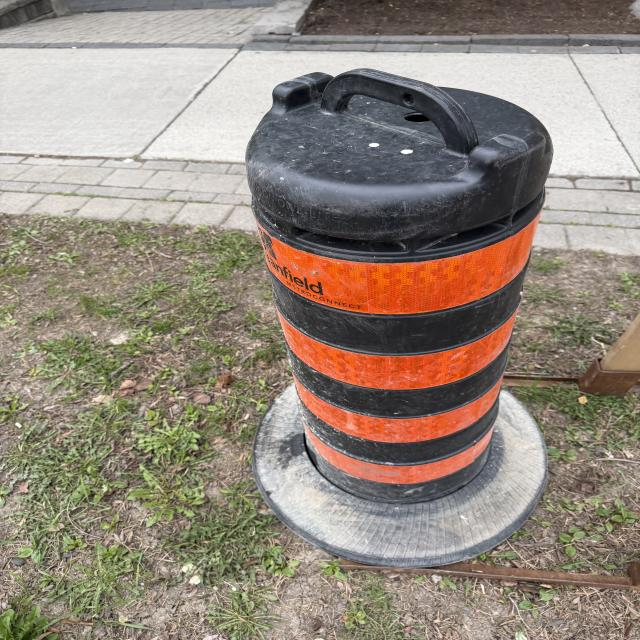Teraffic Barrel: (247, 70, 552, 566)
